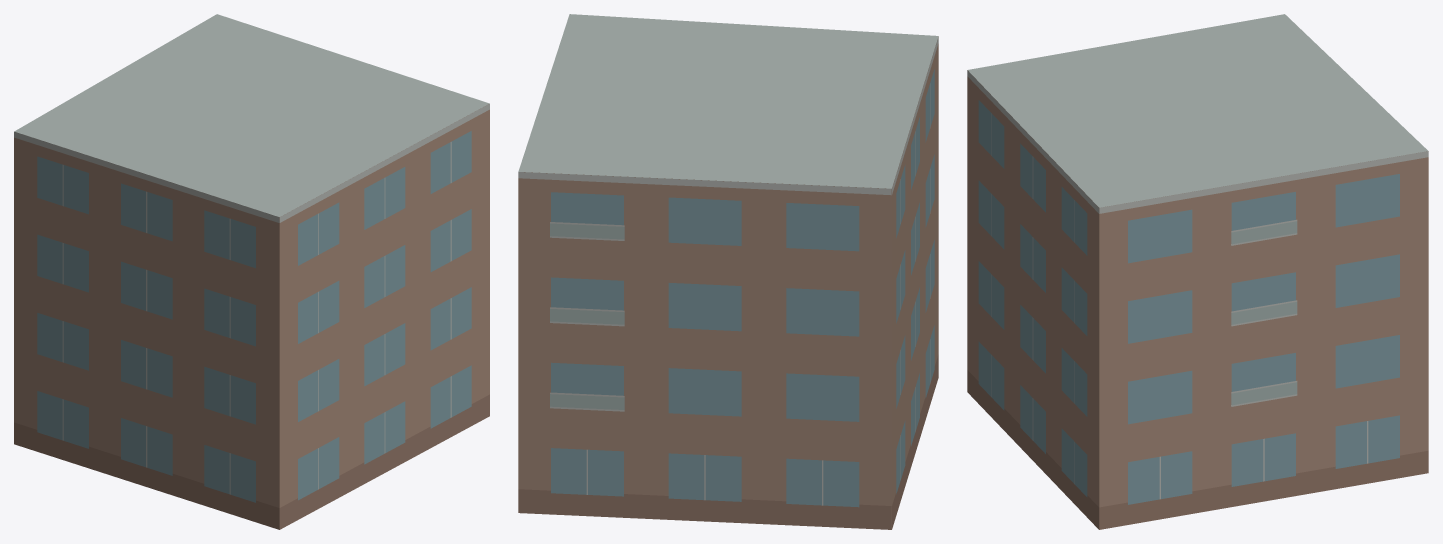
The model's file is survey-upis-32847842.glb.
3 views of the same model, side by side, from view 1: azimuth 30°, elevation 25°; view 2: azimuth 150°, elevation 25°; view 3: azimuth 270°, elevation 25° (orthographic). The views are drawn at different scales.
Parts seen in each view (by area): view 1: survey-upis-32847842.tmp; view 2: survey-upis-32847842.tmp; view 3: survey-upis-32847842.tmp.
Boxes of the visible parts, x1,y1,x2,y2 form: survey-upis-32847842.tmp: (14,14,489,529); survey-upis-32847842.tmp: (518,14,938,529); survey-upis-32847842.tmp: (967,14,1428,529).
Bounding box in the file's own units: 16.53 × 12.8 × 16.62.
